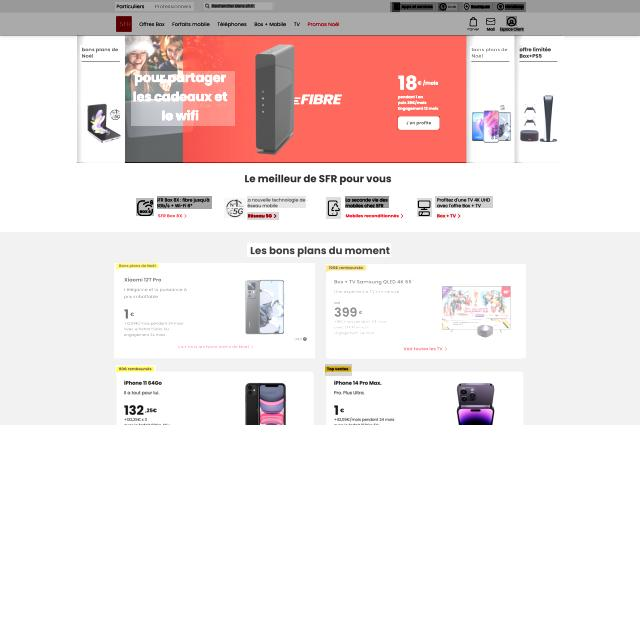CheckBox: (177, 345, 255, 353), (397, 116, 440, 130), (344, 211, 406, 220), (402, 345, 448, 353), (157, 212, 189, 220), (247, 212, 279, 220), (436, 212, 461, 220)
CheckedTextView: (204, 2, 274, 10)
Input field: (158, 196, 214, 209), (248, 196, 308, 208), (435, 196, 493, 208), (345, 196, 389, 208)
RadioButton: (116, 365, 156, 375), (116, 264, 160, 273), (326, 364, 354, 376), (326, 265, 367, 273)
Spinner: (114, 264, 315, 359), (326, 264, 526, 358)
Switch: (76, 36, 564, 162)
bag: (0, 0, 640, 36)
breadcrumbs: (245, 172, 396, 188), (247, 243, 391, 257), (470, 46, 511, 60), (80, 45, 120, 59), (519, 45, 553, 59)
card: (125, 36, 466, 163)
carousel: (224, 198, 246, 218), (326, 197, 341, 219), (136, 198, 154, 216), (417, 198, 432, 217), (468, 16, 478, 27), (506, 16, 517, 26), (486, 17, 496, 26), (392, 2, 400, 12), (438, 3, 446, 11), (463, 2, 470, 10), (497, 2, 504, 10), (205, 3, 210, 9)
copy: (440, 285, 512, 338), (243, 280, 287, 338)
data feed: (404, 118, 434, 128), (401, 4, 433, 10), (500, 27, 524, 32), (505, 4, 524, 10), (471, 5, 490, 9), (447, 4, 457, 10), (467, 27, 480, 31), (486, 28, 495, 31)
date picker: (116, 16, 132, 32)
decoration: (139, 21, 342, 29), (390, 2, 526, 12)
footer: (211, 4, 255, 8)
icon: (115, 2, 194, 11)
image: (131, 71, 235, 126)
